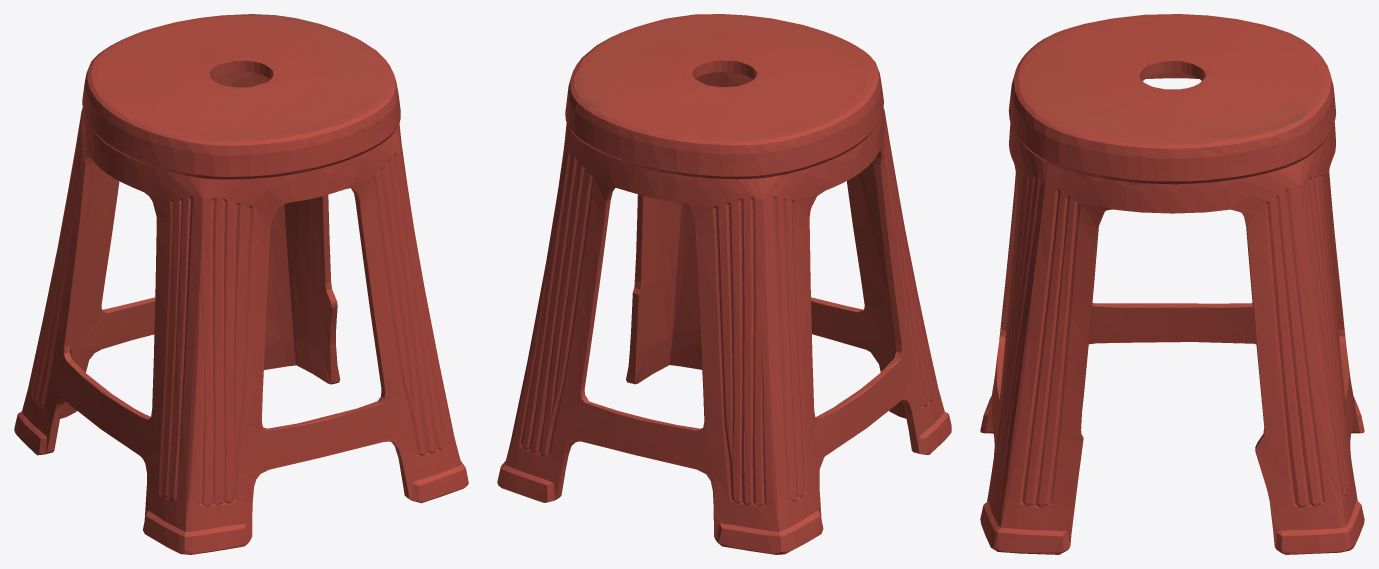
The model's file is plastic_stool_red.glb.
3 views of the same model, side by side, from view 1: azimuth 30°, elevation 25°; view 2: azimuth 150°, elevation 25°; view 3: azimuth 270°, elevation 25° (orthographic). The views are drawn at different scales.
Parts seen in each view (by area): view 1: plastic_stool_red; view 2: plastic_stool_red; view 3: plastic_stool_red.
Boxes of the visible parts, x1,y1,x2,y2 form: plastic_stool_red: (14, 14, 468, 554); plastic_stool_red: (497, 14, 951, 554); plastic_stool_red: (980, 14, 1364, 554).
Size of the model in its own units: 0.3692 by 0.45 by 0.3883.
Materials: 1 (1 with a texture image).
